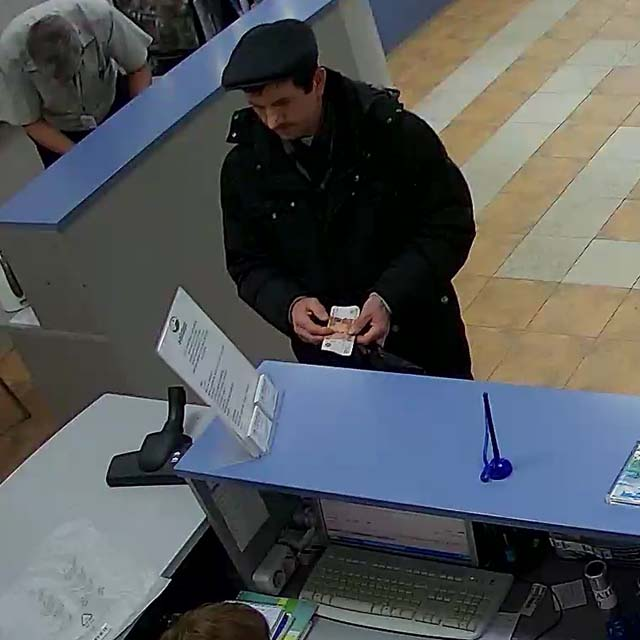banknotes: (318, 306, 358, 355)
